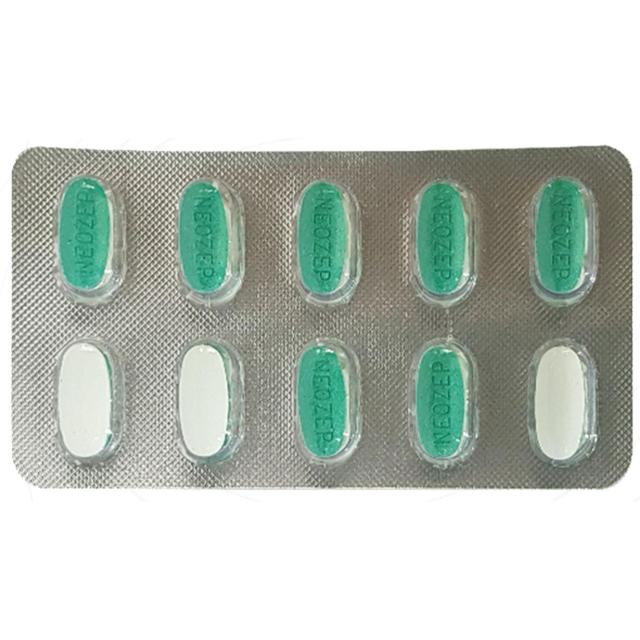blister: (5, 138, 638, 498)
